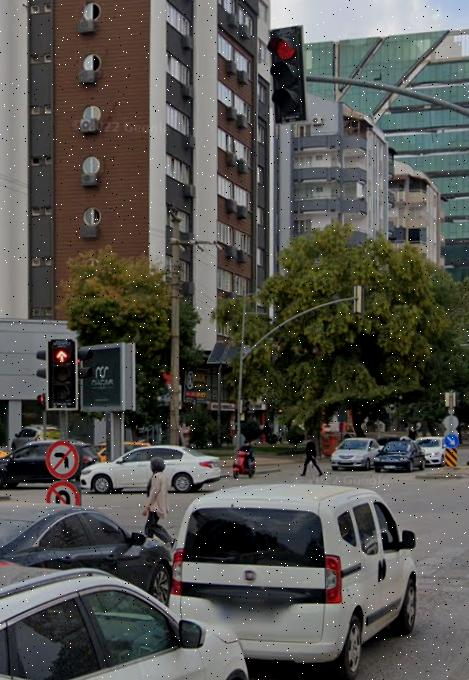leftturnsareforbidden: (47, 442, 77, 478)
redlight: (272, 25, 309, 124), (44, 339, 74, 409)
